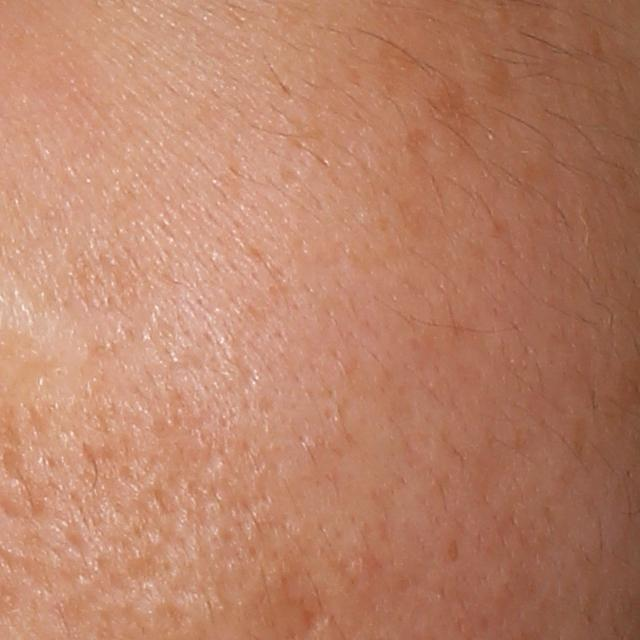melasma: (379, 38, 426, 102), (427, 75, 470, 127), (482, 52, 516, 97)
